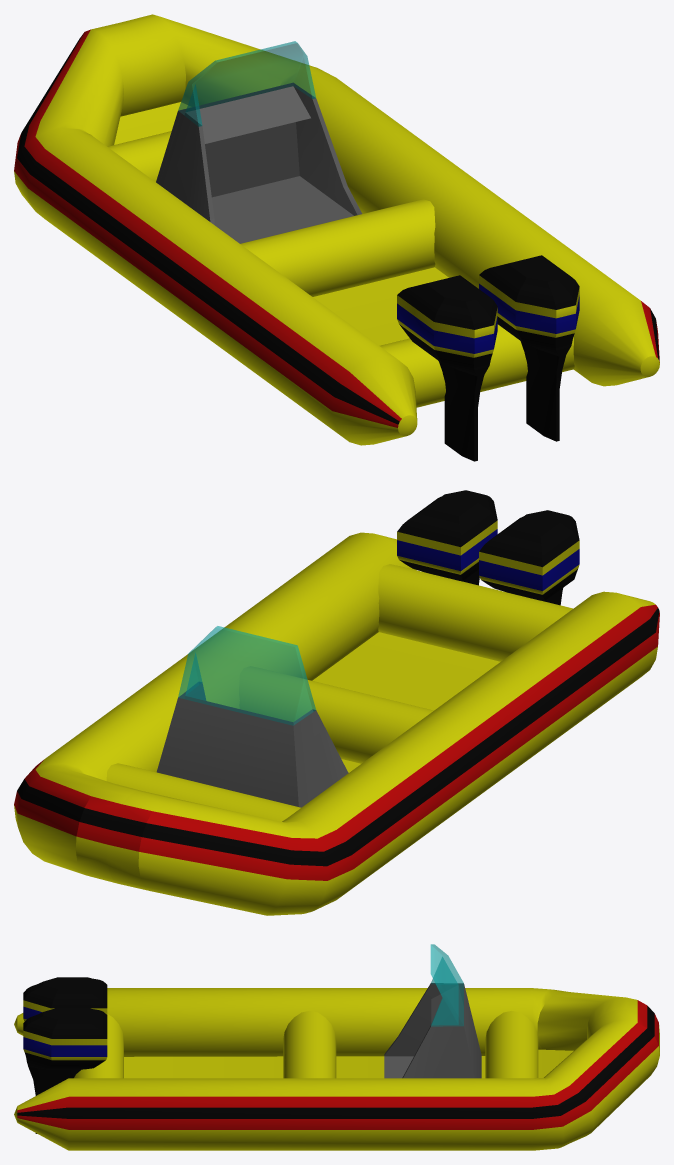
Rendered from FastDinghy.fbx.
3 views of the same model, one above another, from view 1: azimuth 30°, elevation 25°; view 2: azimuth 150°, elevation 25°; view 3: azimuth 270°, elevation 25° (orthographic). The views are drawn at different scales.
Visible parts, largest first — view 1: polySurface15; view 2: polySurface15; view 3: polySurface15.
Boxes of the visible parts, bbox=[...] form: polySurface15: bbox=[14, 14, 659, 461]; polySurface15: bbox=[14, 490, 659, 915]; polySurface15: bbox=[14, 944, 659, 1150].
Bounding box in the file's own units: 5.4 × 3.3 × 12.17.
